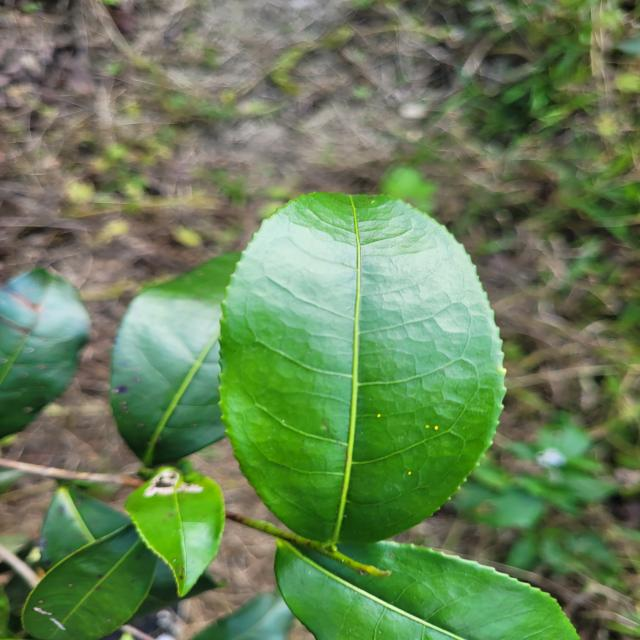Category D(7+ days, Not for Tea): (199, 156, 526, 564)
